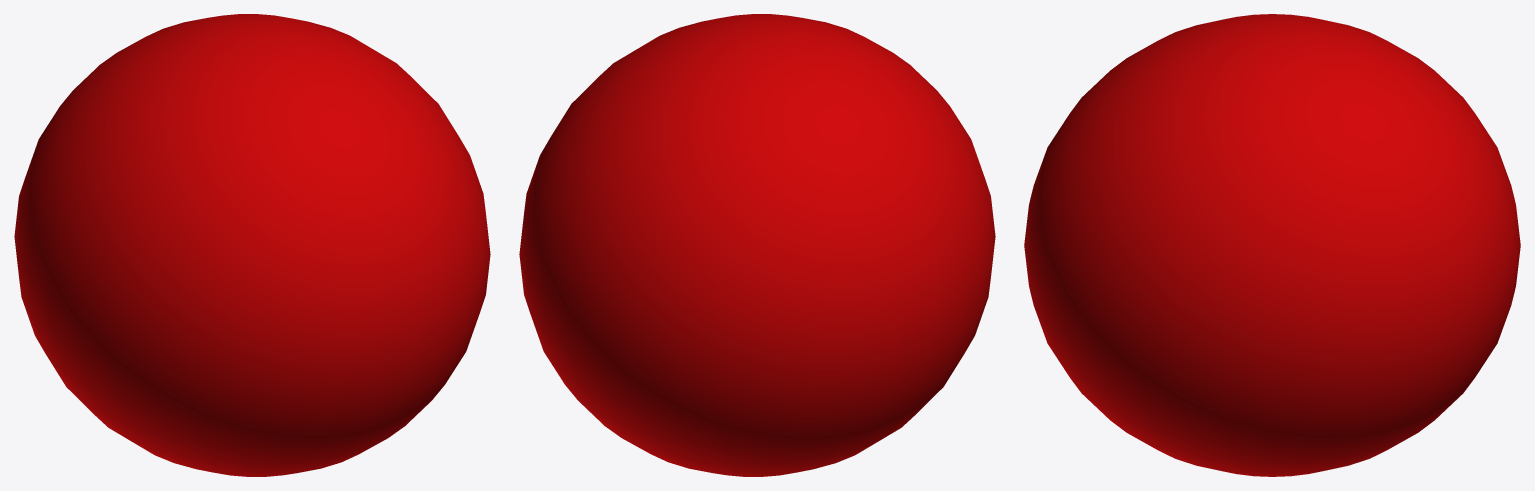
The model's file is Ball.obj.
3 renders of one model, left to right at view 1: azimuth 30°, elevation 25°; view 2: azimuth 150°, elevation 25°; view 3: azimuth 270°, elevation 25°, orthographic.
Visible parts, largest first — view 1: 球体; view 2: 球体; view 3: 球体.
Boxes of the visible parts, bbox=[...] form: 球体: bbox=[14, 14, 490, 476]; 球体: bbox=[519, 14, 995, 476]; 球体: bbox=[1024, 14, 1520, 476].
Bounding box in the file's own units: 1.56 × 1.52 × 1.64.
